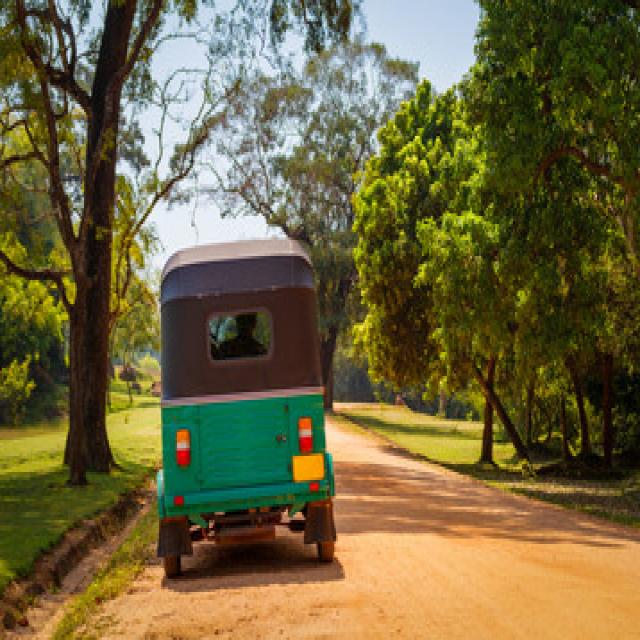three wheeler: (157, 237, 334, 573)
